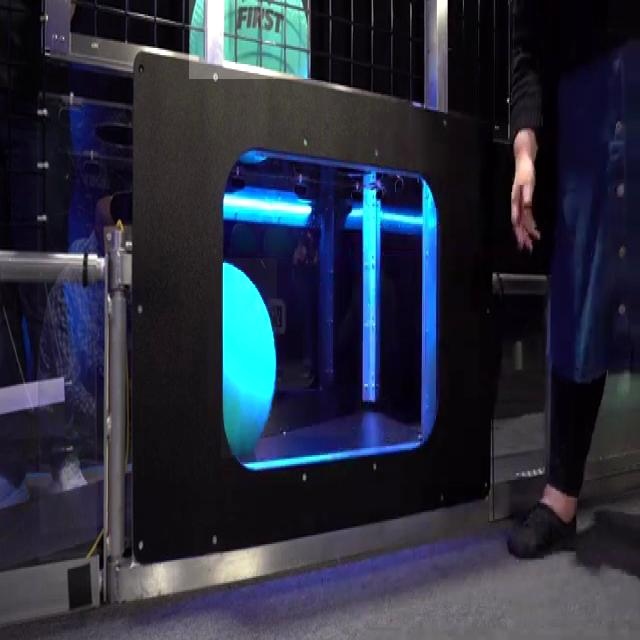Algae: (221, 258, 277, 458), (189, 0, 311, 79)
